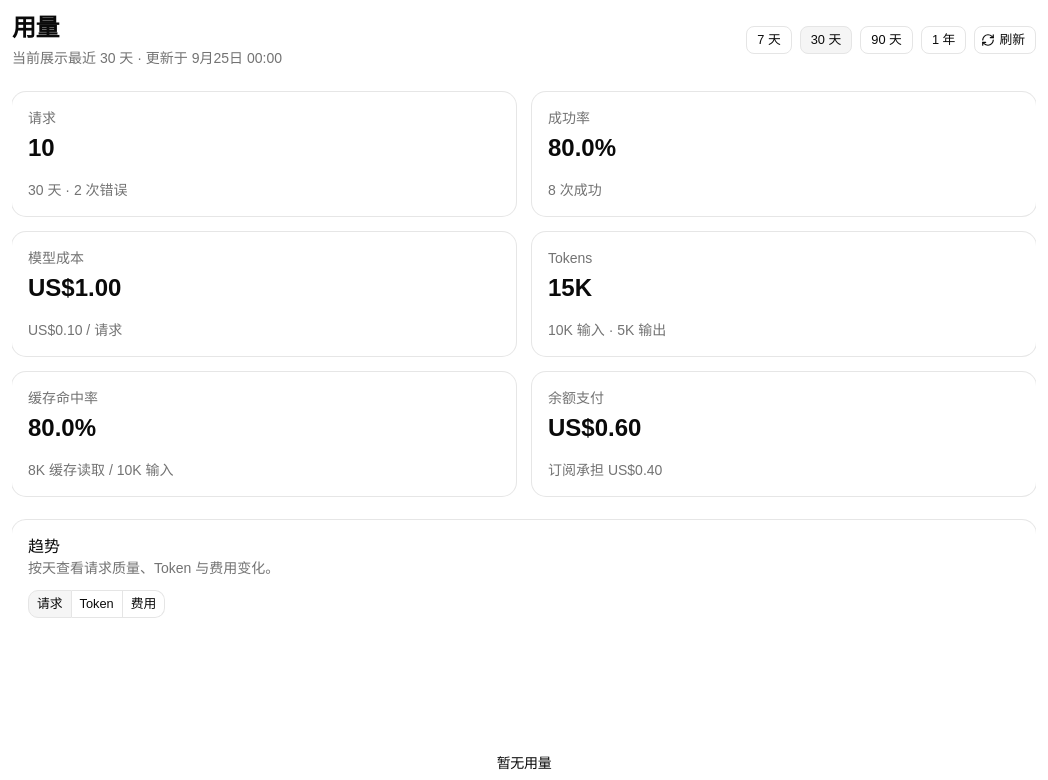
Test: keeps the successful period labelled after a refresh failure and retries
This screenshot has width=1048, height=780.
Expected: the text "当前展示最近 30 天 · 更新于 9月25日 00:00" is shown, [12, 48, 282, 68]
Click the button "7 天" at (769, 40), box [746, 26, 792, 54]
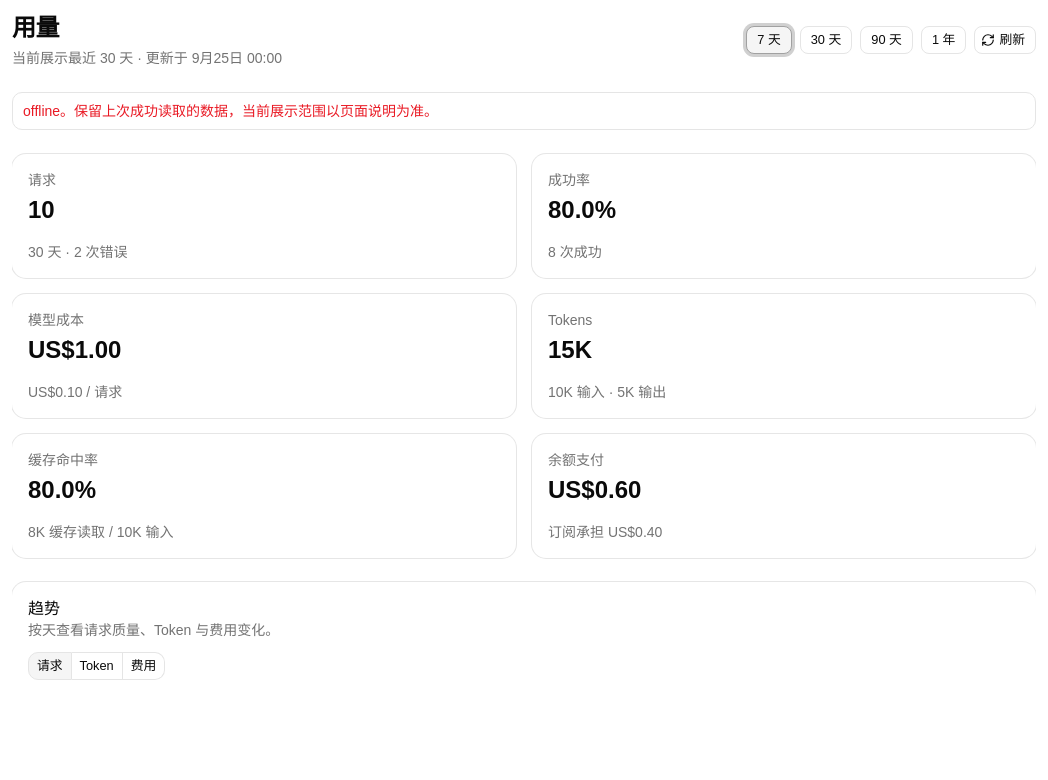
Expected: the text "当前展示最近 30 天 · 更新于 9月25日 00:00" is shown, [12, 48, 282, 68]
Now the text "offline。保留上次成功读取的数据，当前展示范围以页面说明为准。" is shown, box [23, 103, 438, 119]
Click the button "刷新" at (1005, 40), box [974, 26, 1036, 54]
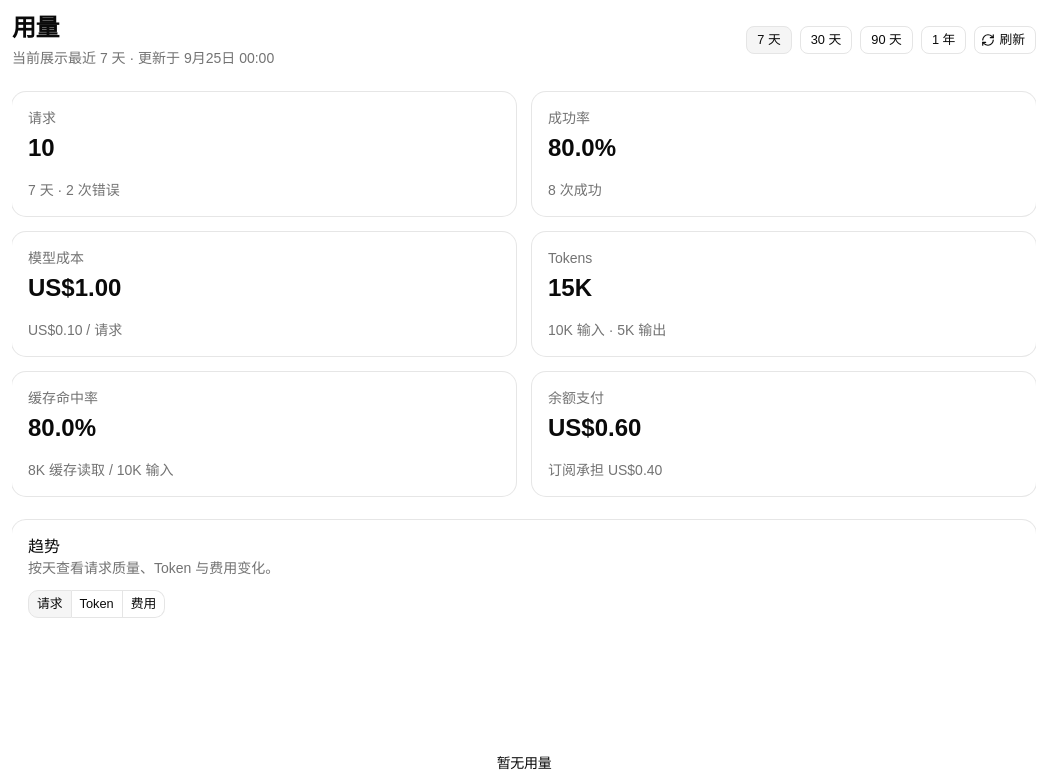
Now the text "当前展示最近 7 天 · 更新于 9月25日 00:00" is shown, box [12, 48, 274, 68]
